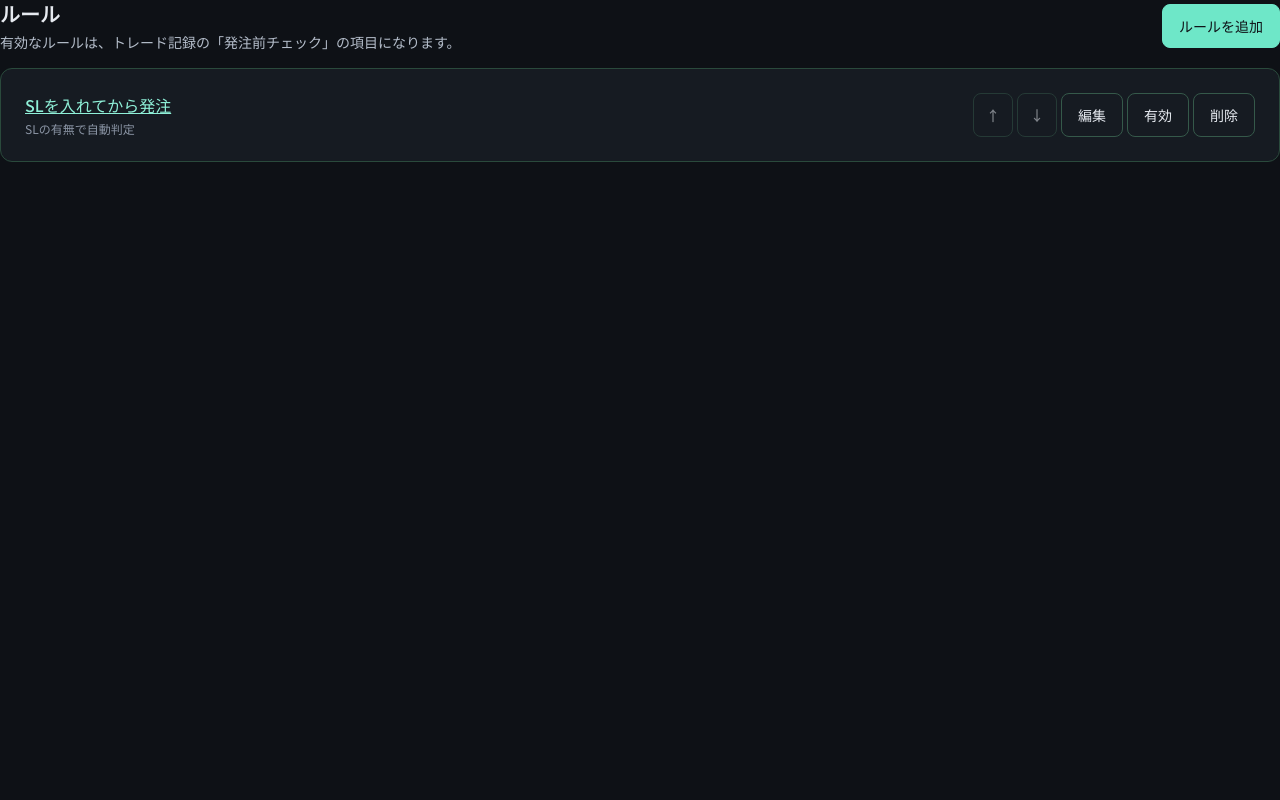
Test: ルール画面 › 削除は確認してからAPIを呼ぶ（キャンセルで呼ばない）
Later steps or results of the test are not shown.
Click the button "削除" at (1224, 115), box [1193, 93, 1255, 137]
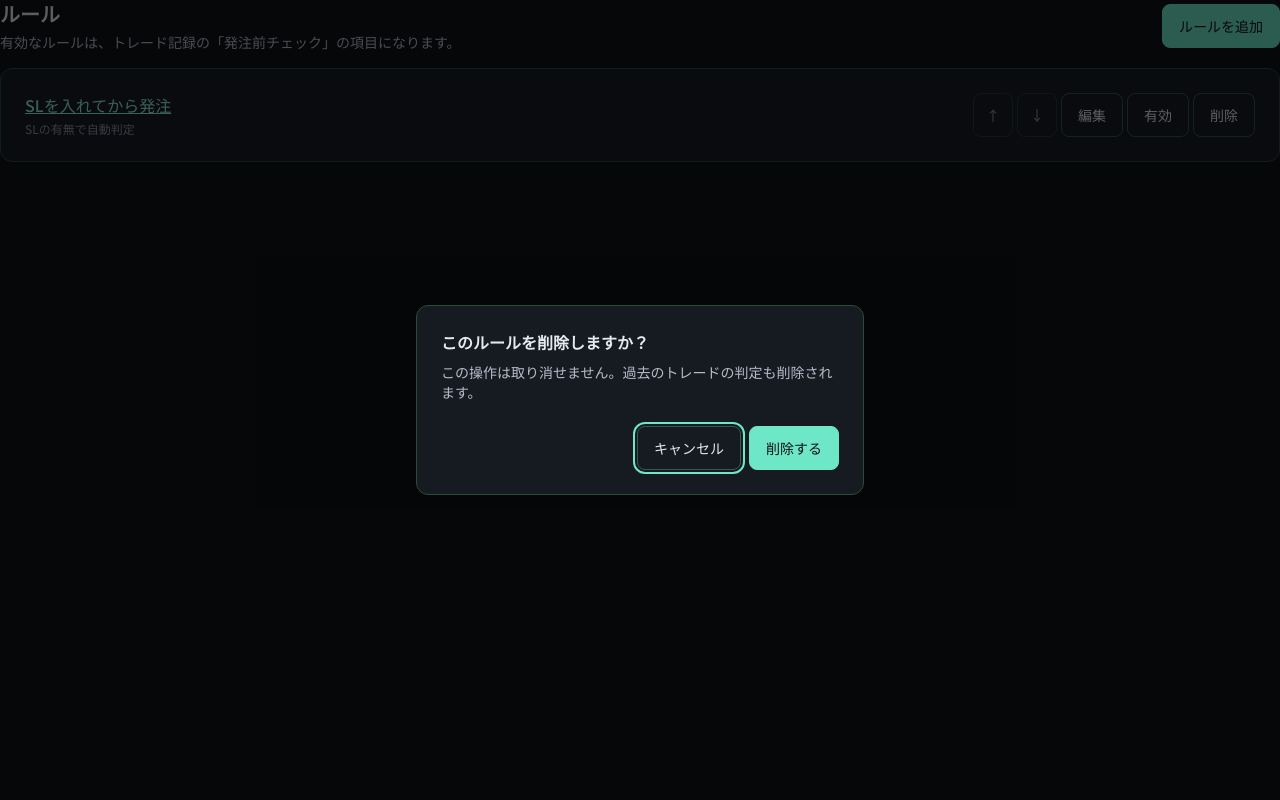
Check: the heading "このルールを削除しますか？" is shown, box [441, 330, 649, 354]
